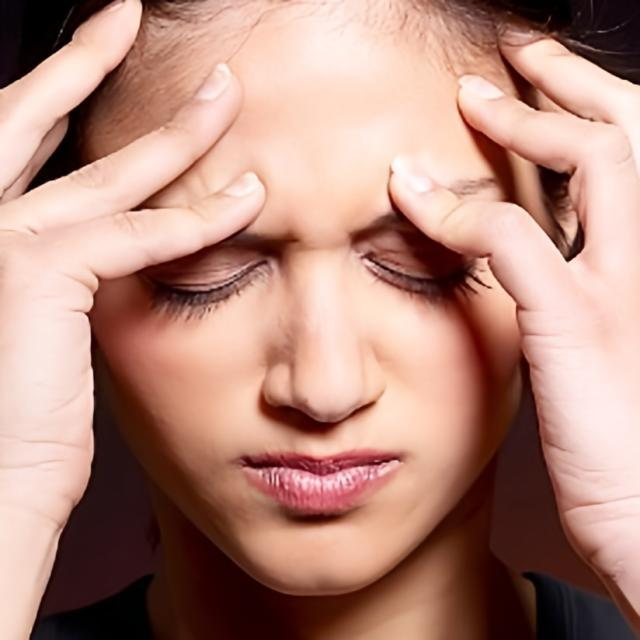anger: (110, 46, 522, 590)
